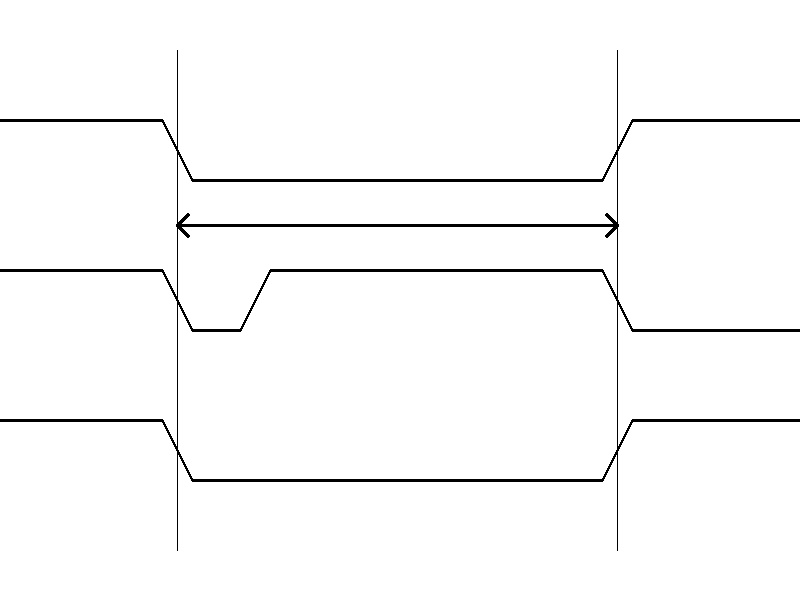double_arrow: (177, 210, 617, 240)
